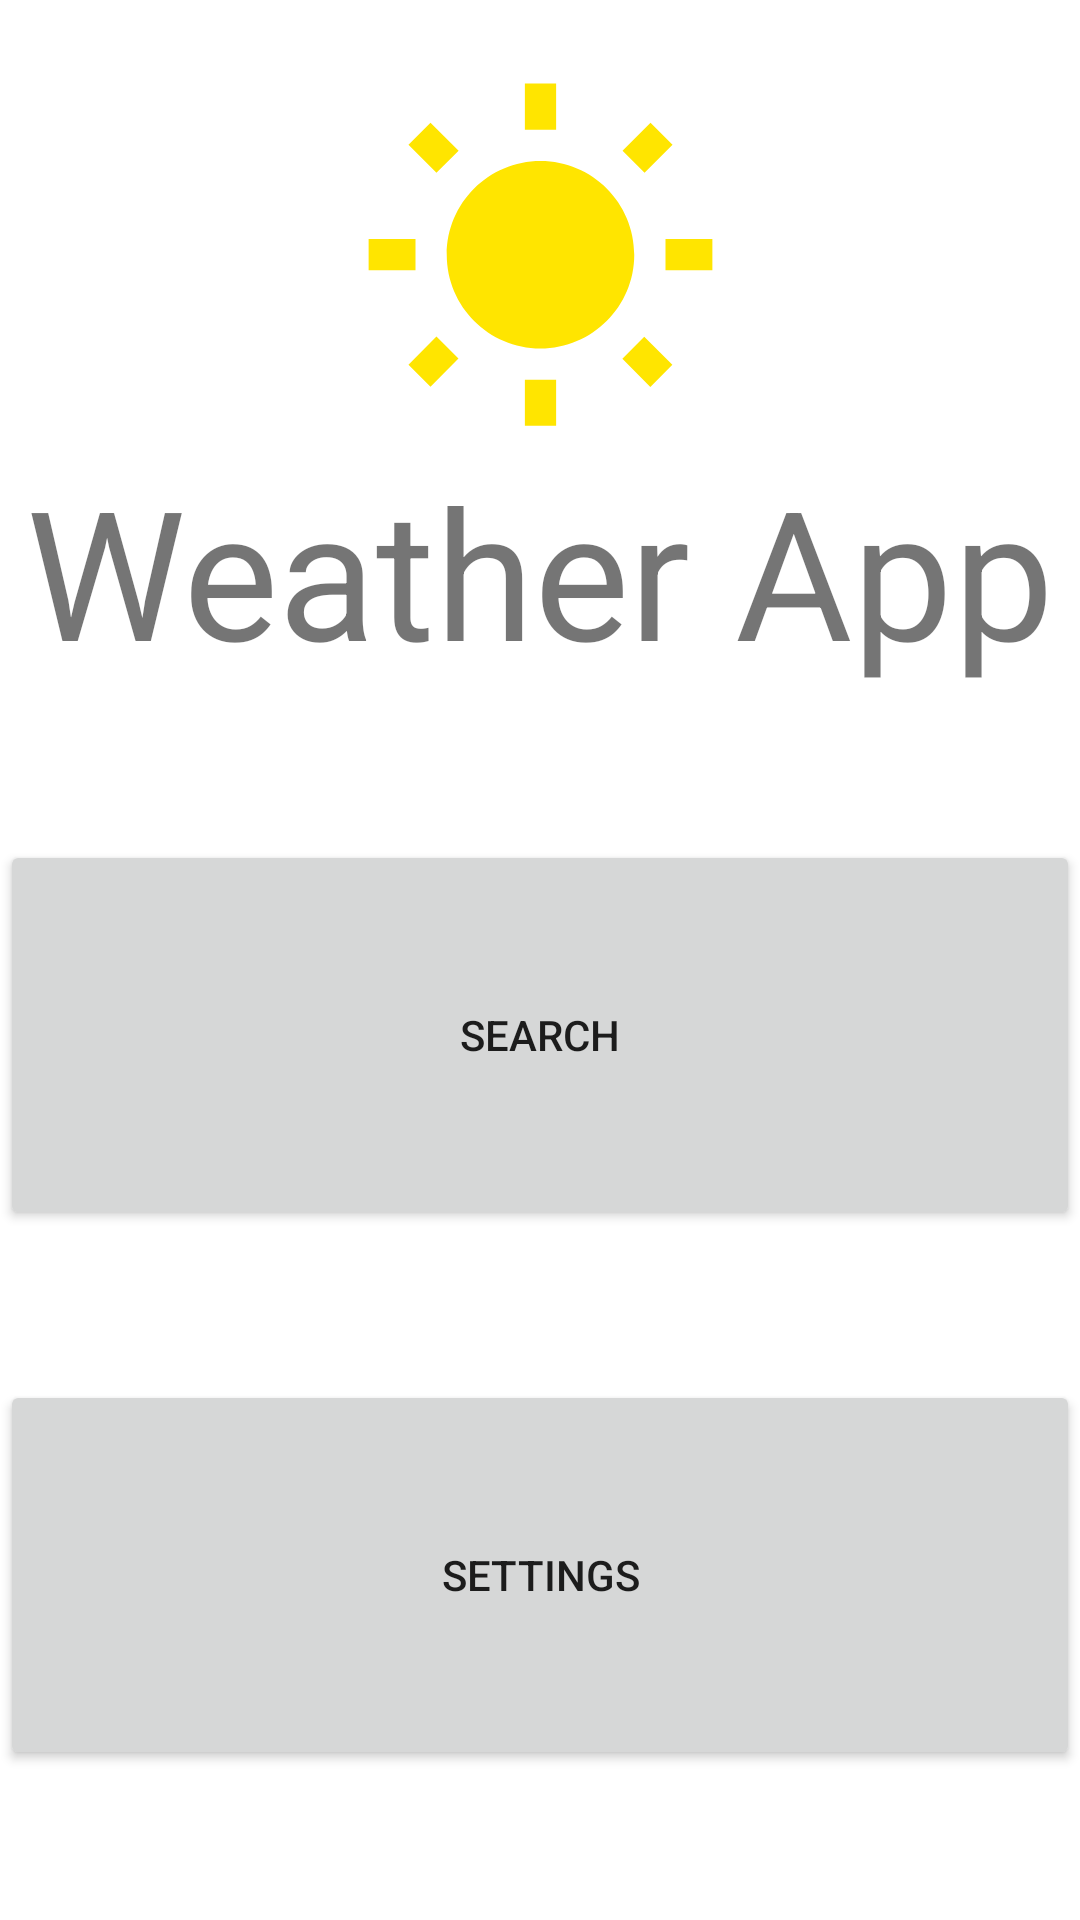

Icon click points for this 1080px×1920px phone screenshot, format (x,y):
sunny: (540,254)
